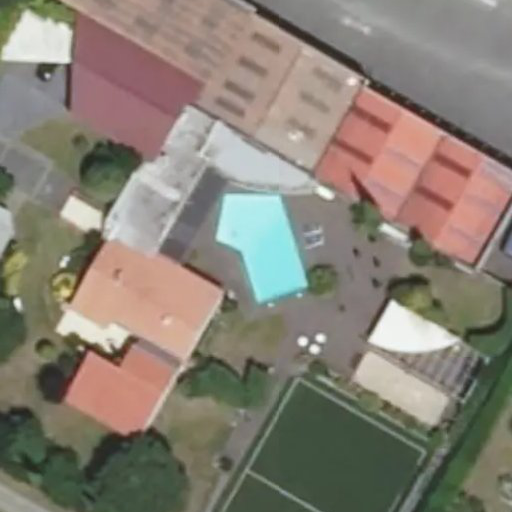pool: (199, 193, 301, 280)
